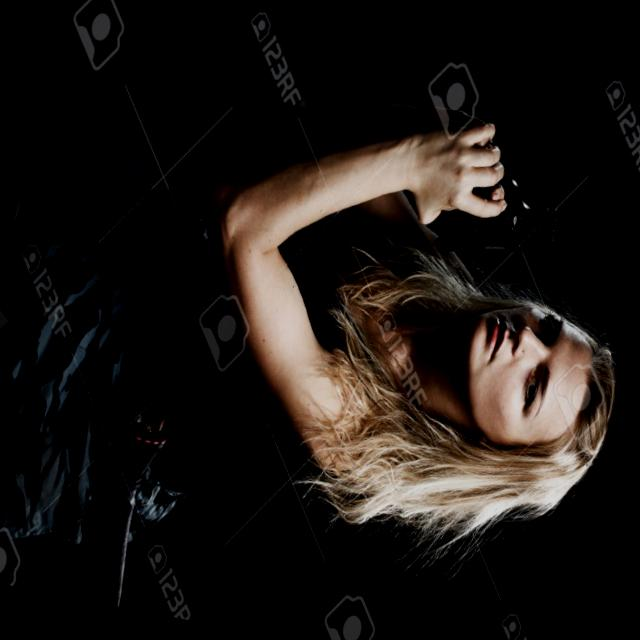handgun: (420, 128, 587, 286)
